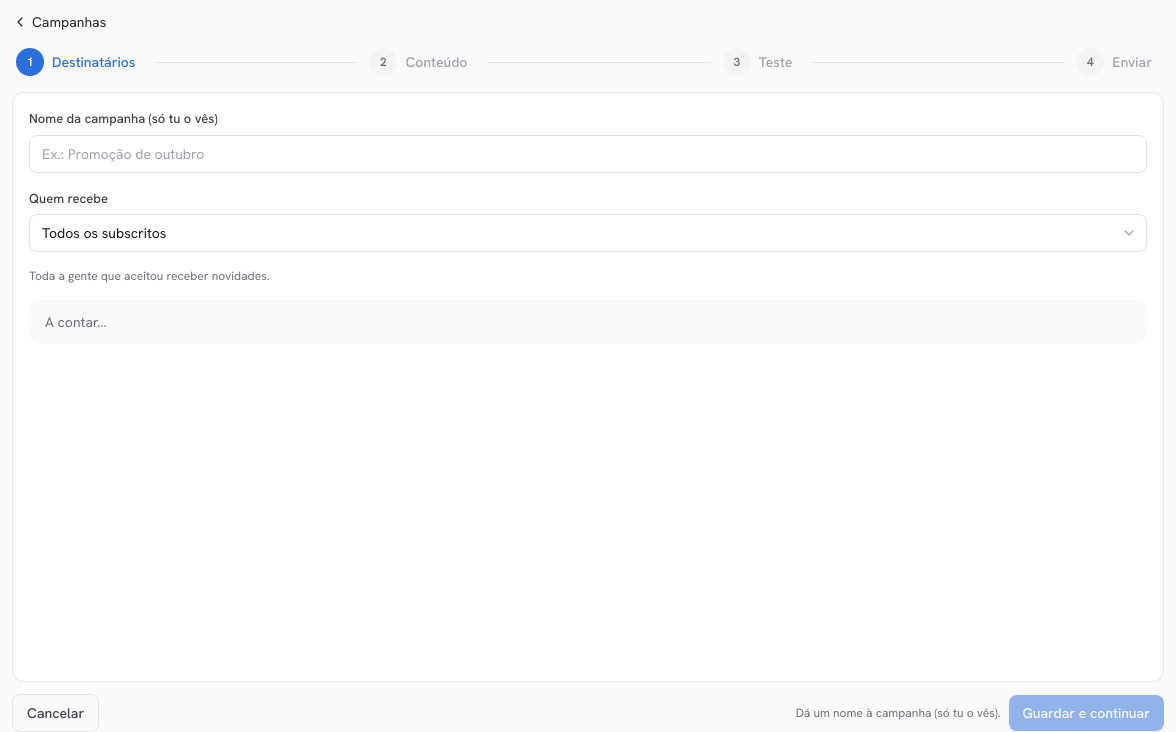
it: Nova campanha — passo 1, destinatários › etiqueta vazia: ainda não pede contagem nem deixa avançar
Type "Outubro" into the field labelled "Nome da campanha (só tu o vês)".
click(588, 154); type("Outubro")  # box [29, 134, 1147, 172]
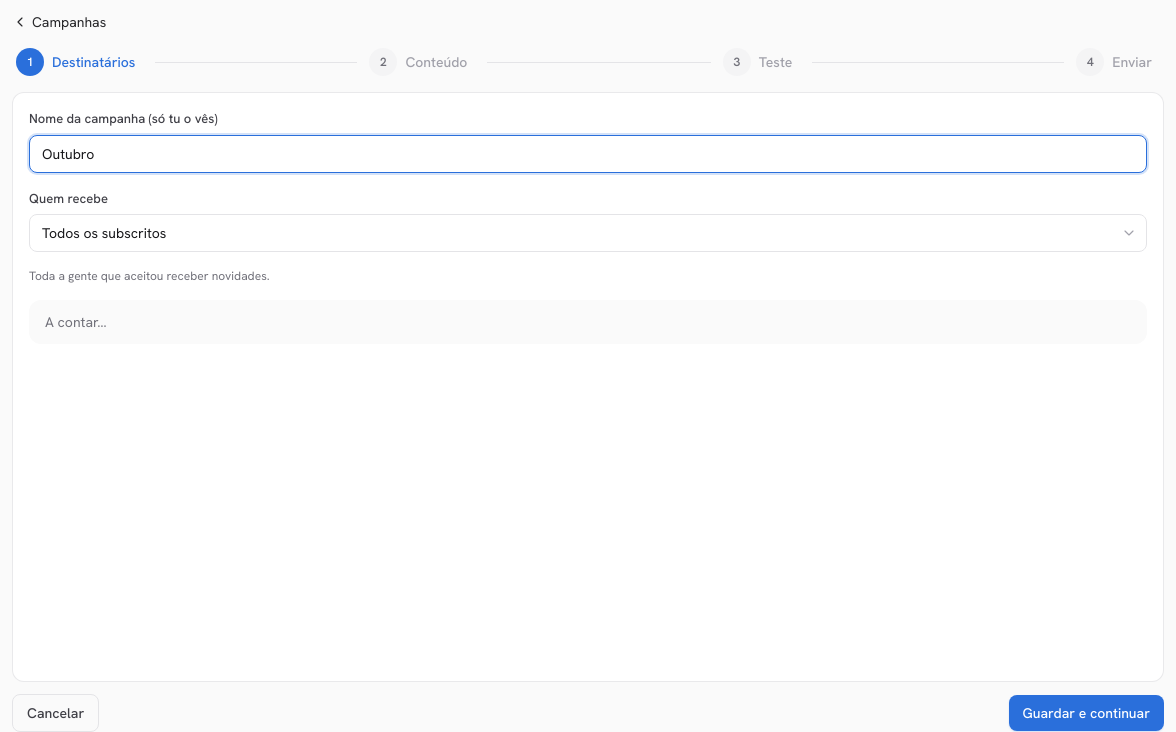
Select "Etiqueta" in the dropdown labelled "Quem recebe" at [588, 233], box [29, 214, 1147, 252]
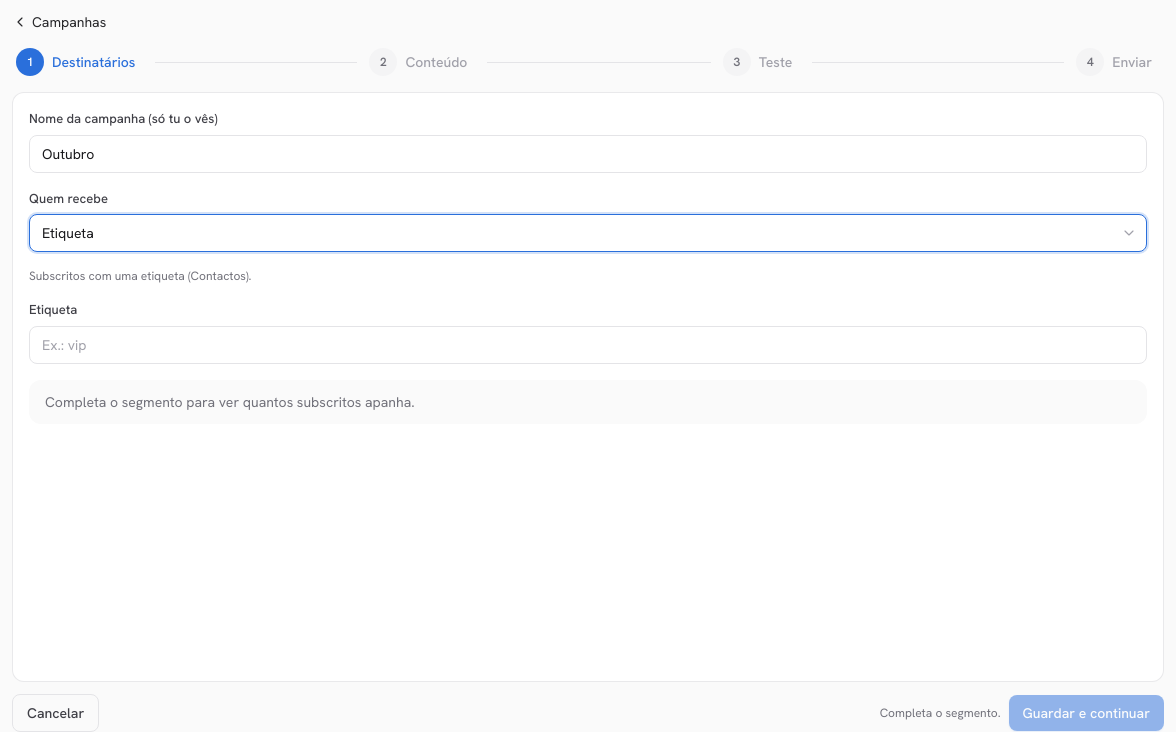
Result: the element with test id "campaign-audience" shows "Completa o segmento" at [45, 392, 415, 410]
Result: the button with test id "campaign-next" is disabled at [1008, 695, 1164, 731]
